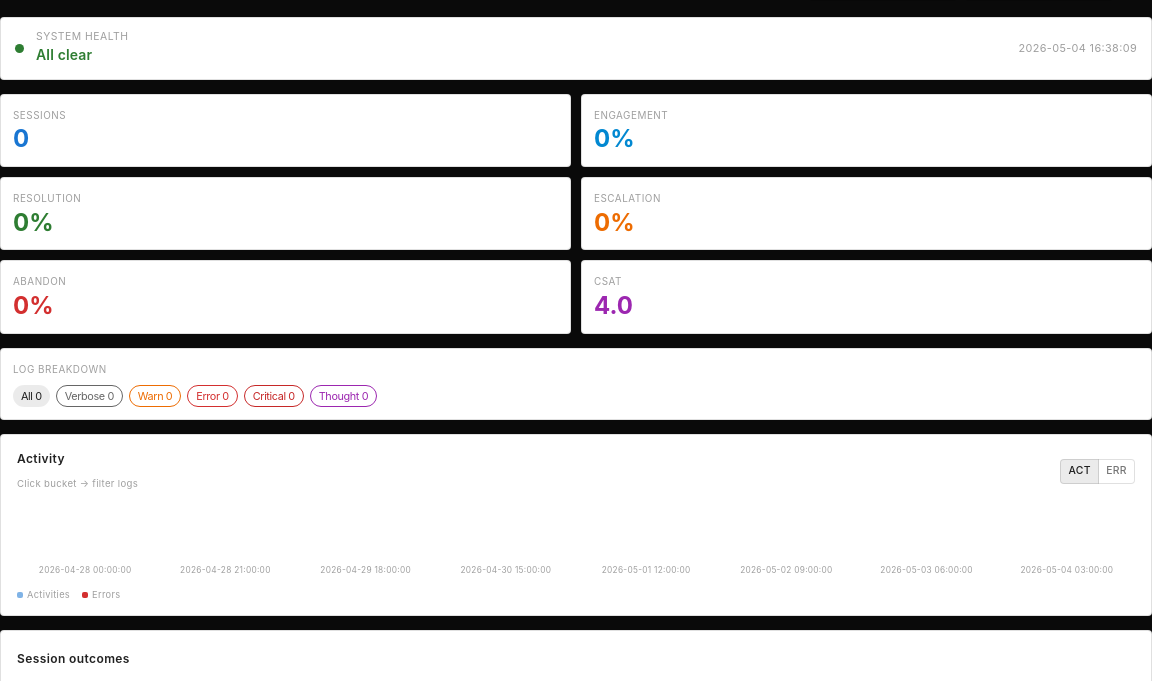
Test: AgentDashboard › log breakdown pills filter the stream on click
The width and height of the screenshot is (1152, 681).
# Click 'Error' pill — only error logs should remain visible
Click the button "Error 0" at (213, 396), box [187, 385, 238, 407]
(page scrolled)
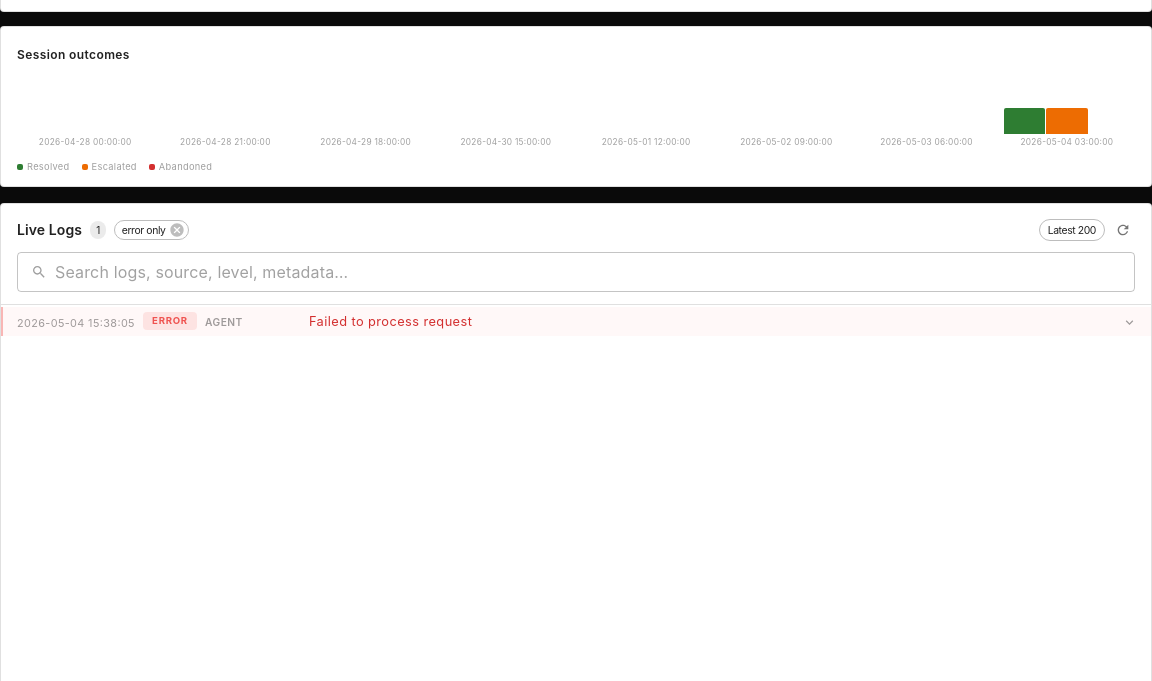
expect the text "Failed to process request" is shown: met, box [309, 314, 472, 329]
